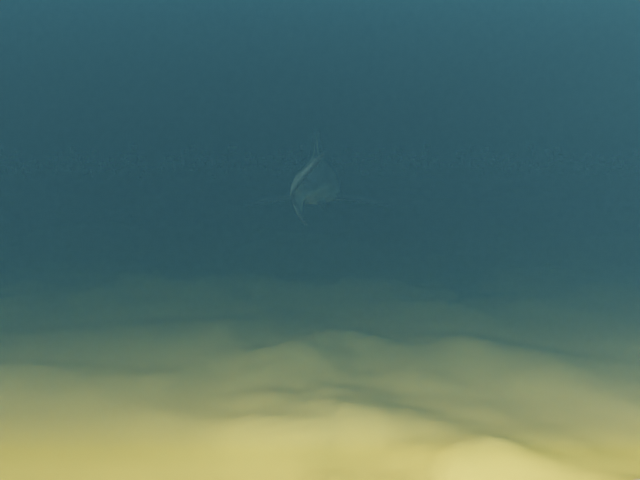Carribean Shark.001: (243, 132, 389, 225)
